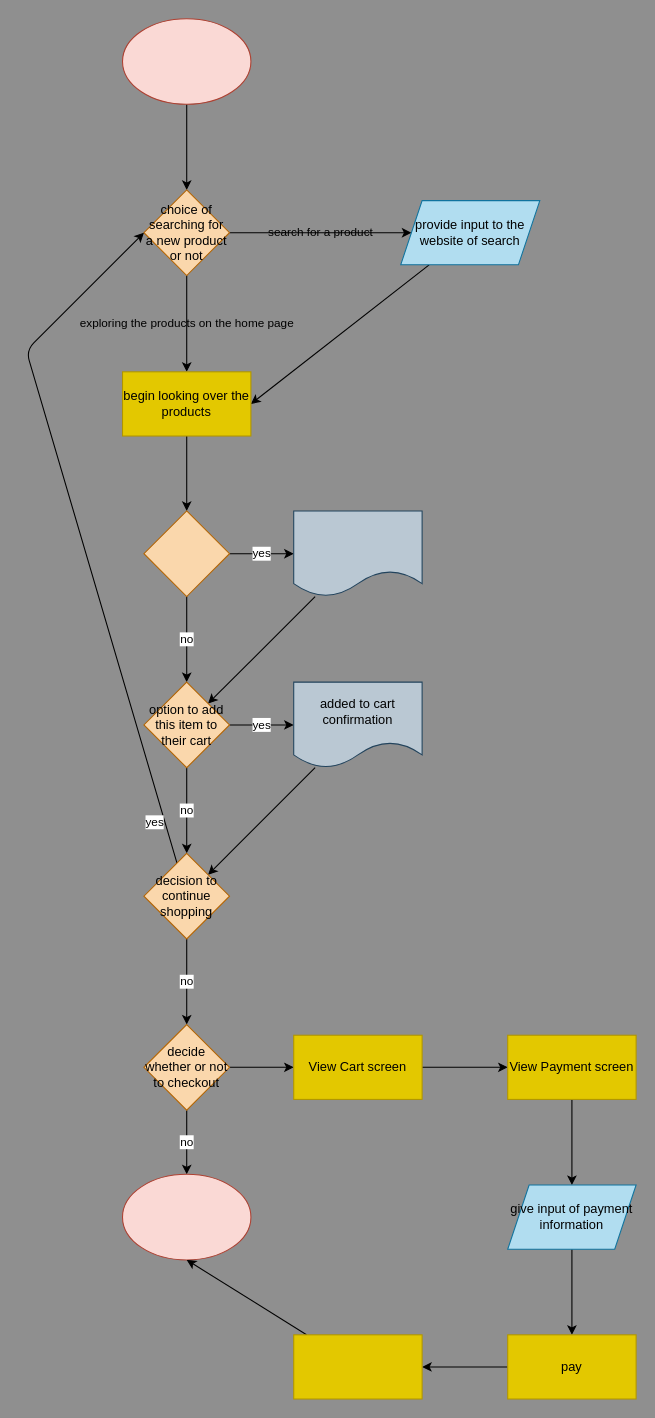
Image size: 655x1418. Some labels were removed from this diagram. Each missing label, with the centre of its shape:
"enter the website" goes at (186,61).
"leave the website" goes at (186,1216).
"order confirmation screen and at the same time receive an email" goes at (357,1366).
"that product’s webpage will open" goes at (357,553).
"view a specific product" goes at (186,553).
